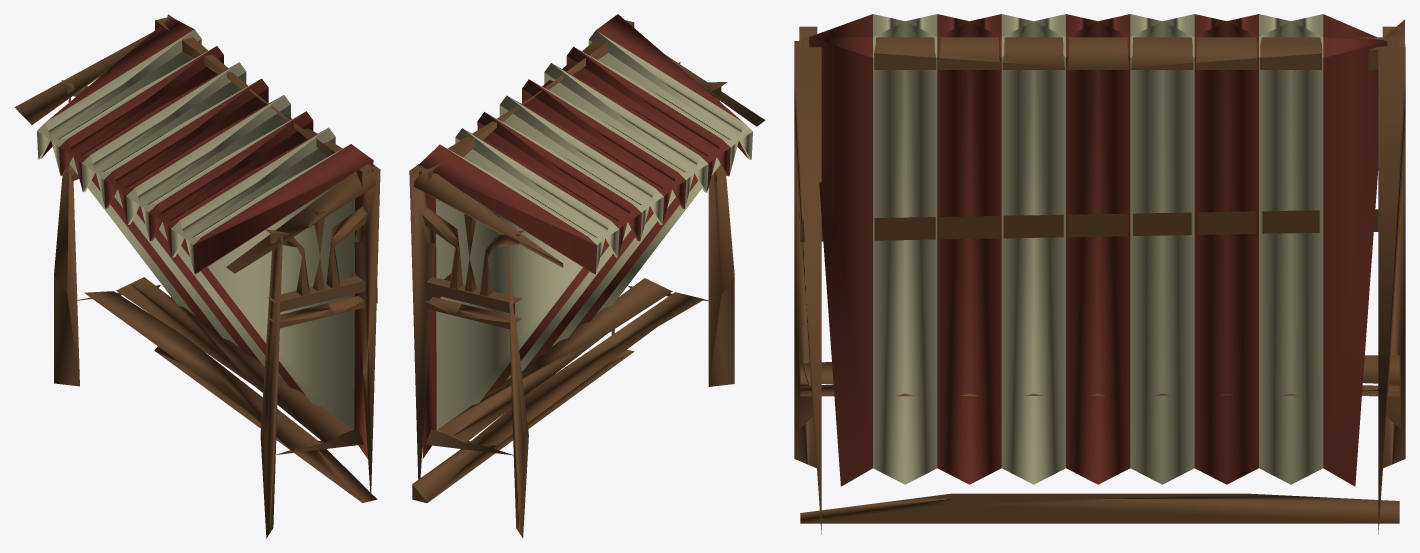
Rendered from merchant_stall-small.glb.
The picture shows the model from 3 angles, left to right: view 1: azimuth 30°, elevation 25°; view 2: azimuth 150°, elevation 25°; view 3: azimuth 270°, elevation 25°; orthographic projection. The views are drawn at different scales.
Visible parts, largest first — view 1: MarketStand_2; view 2: MarketStand_2; view 3: MarketStand_2.
Boxes of the visible parts, x1=… form: MarketStand_2: x1=14, y1=14, x2=380, y2=538; MarketStand_2: x1=409, y1=14, x2=765, y2=538; MarketStand_2: x1=794, y1=14, x2=1405, y2=534.
Size of the model in its own units: 0.5172 by 1.04 by 1.15.
